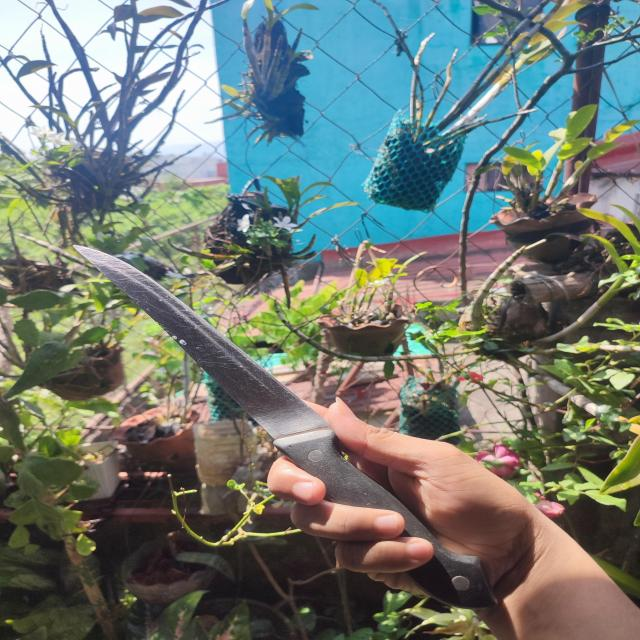knife: (73, 245, 495, 603)
